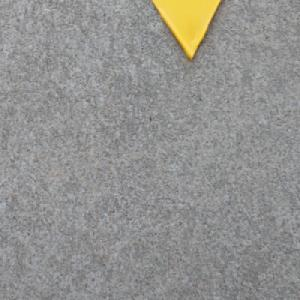PlasticPart: (148, 0, 221, 60)
